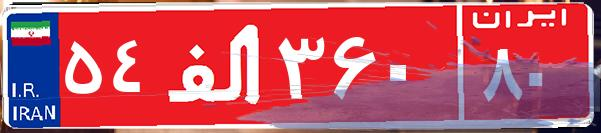0: (385, 28, 445, 110), (525, 38, 570, 115)
3: (273, 28, 330, 110)
4: (110, 28, 158, 105)
5: (57, 26, 110, 107)
6: (330, 28, 385, 110)
8: (475, 38, 525, 113)
الف: (158, 15, 273, 115)
